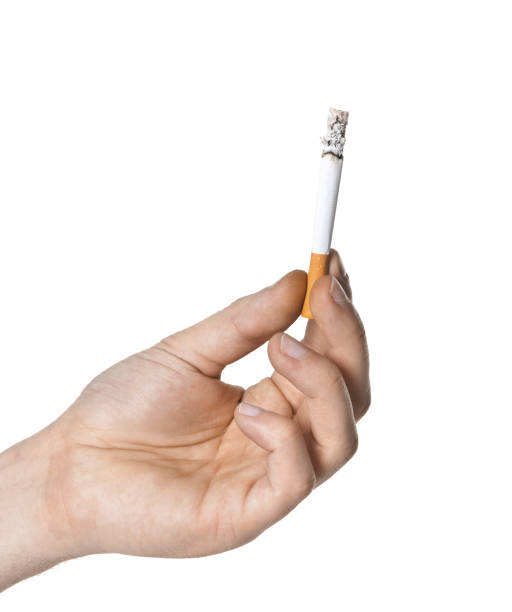cigarette: (300, 109, 350, 322)
